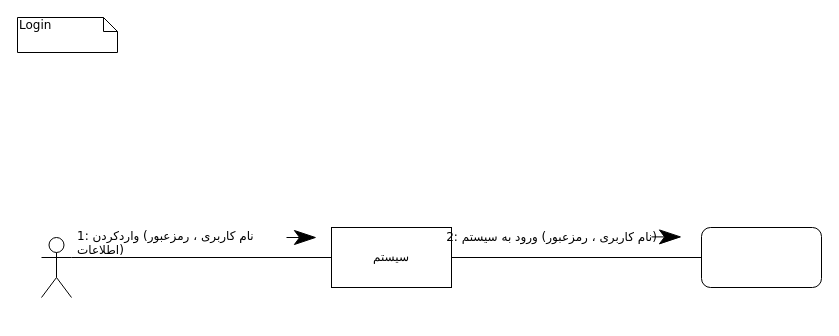
Some shapes in this 839 by 336 pixel diagram are drawn without their labels. Each missing label, with the box of its shape:
کاربر: (40, 236, 72, 298)
کاربر: یک کاربر: (700, 226, 822, 288)
